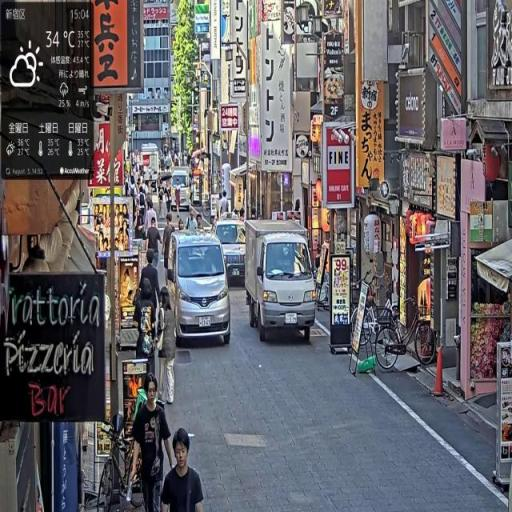person: (127, 373, 178, 512), (162, 427, 206, 512), (156, 288, 185, 409), (134, 278, 162, 389), (140, 251, 162, 321), (147, 217, 162, 277), (162, 214, 178, 268)
